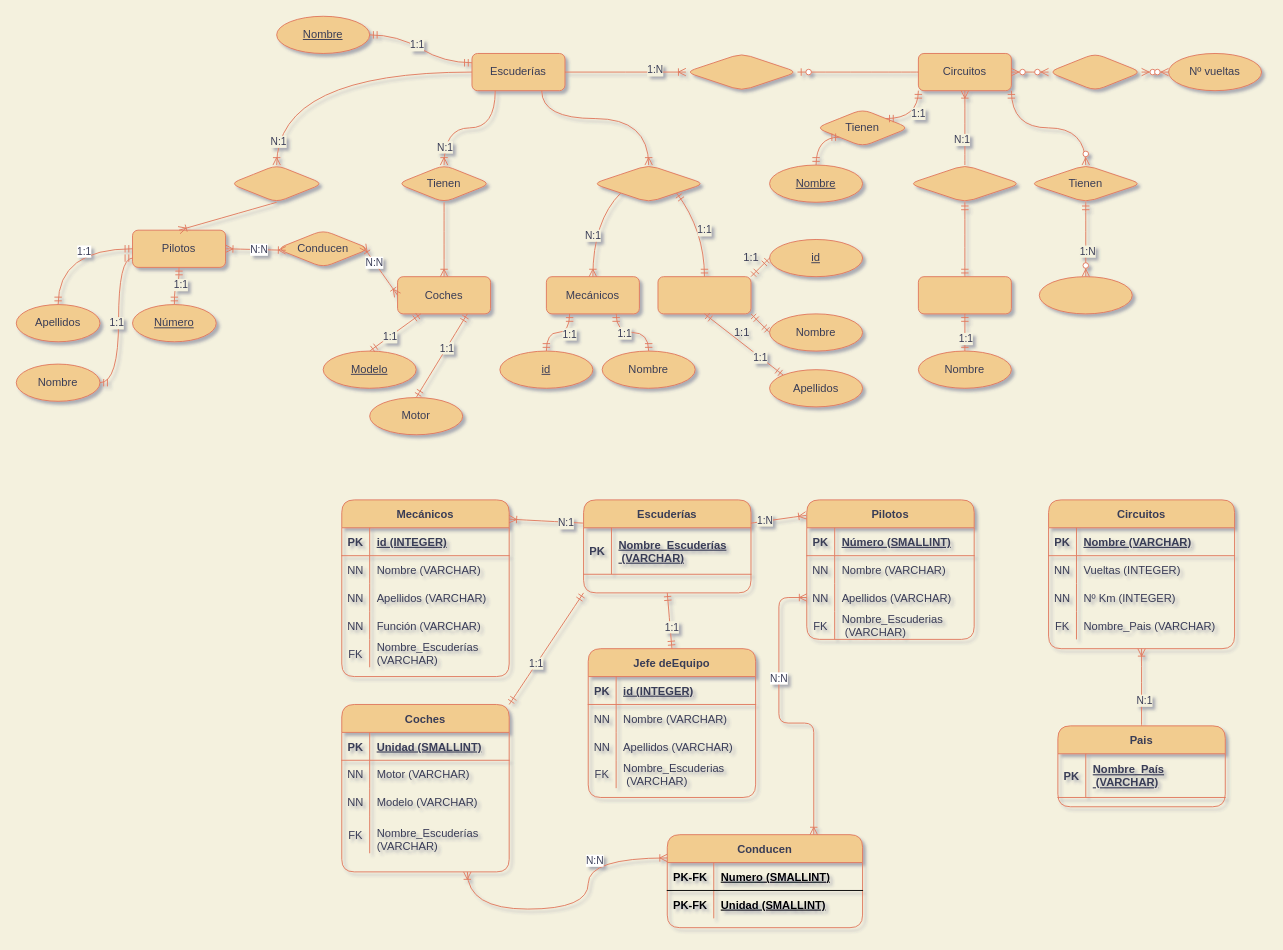
Some shapes in this 1283 by 950 pixel diagram are drawn without their labels. Here are the shapes that lost their labels. From the top down, the centre of each, then its label:
pixel 741 72: Corren
pixel 1095 72: Dan
pixel 276 183: Pertenece
pixel 648 183: Trabajan
pixel 964 183: Están
pixel 704 295: Jefe de Equipo
pixel 964 295: País
pixel 1085 295: Nº Km
